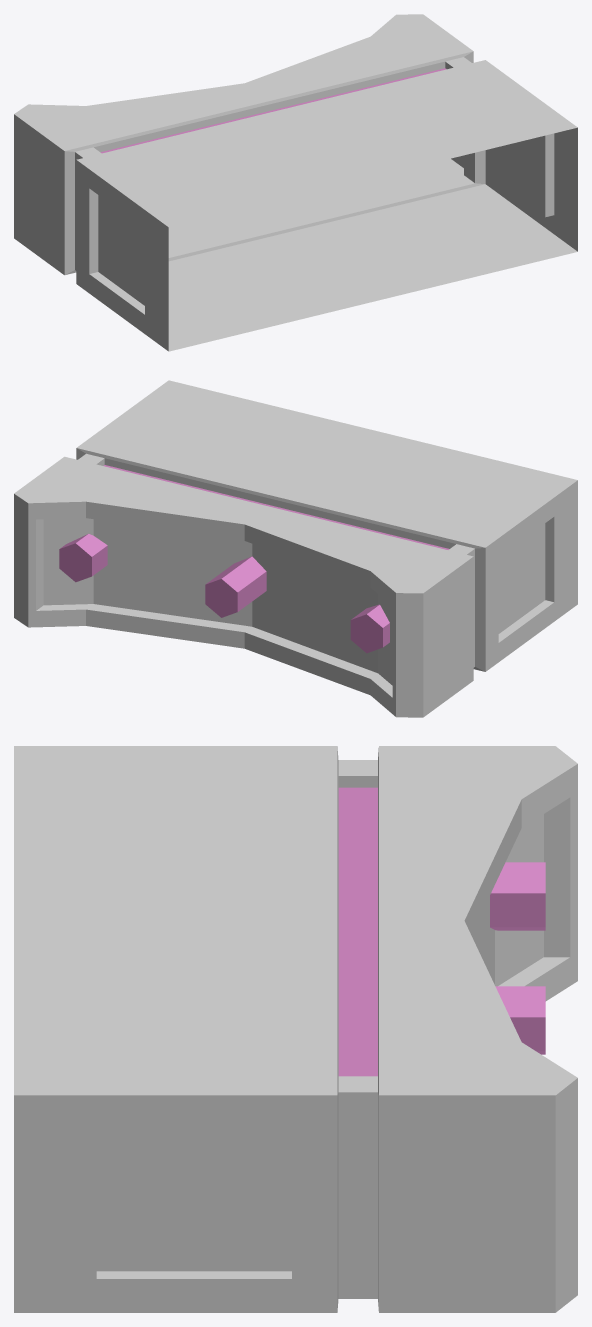
The model's file is fuel_tank_platform.fbx.
The picture shows the model from 3 angles, top to bottom: view 1: azimuth 30°, elevation 25°; view 2: azimuth 150°, elevation 25°; view 3: azimuth 270°, elevation 25°; orthographic projection. The views are drawn at different scales.
Parts seen in each view (by area): view 1: fuel room platform.002; view 2: fuel room platform.002; view 3: fuel room platform.002.
Boxes of the visible parts, box(x1,y1,x2,y2) form: fuel room platform.002: box(14, 14, 577, 351); fuel room platform.002: box(14, 380, 577, 717); fuel room platform.002: box(14, 746, 577, 1312).
Bounding box in the file's own units: 300 × 87.16 × 205.
